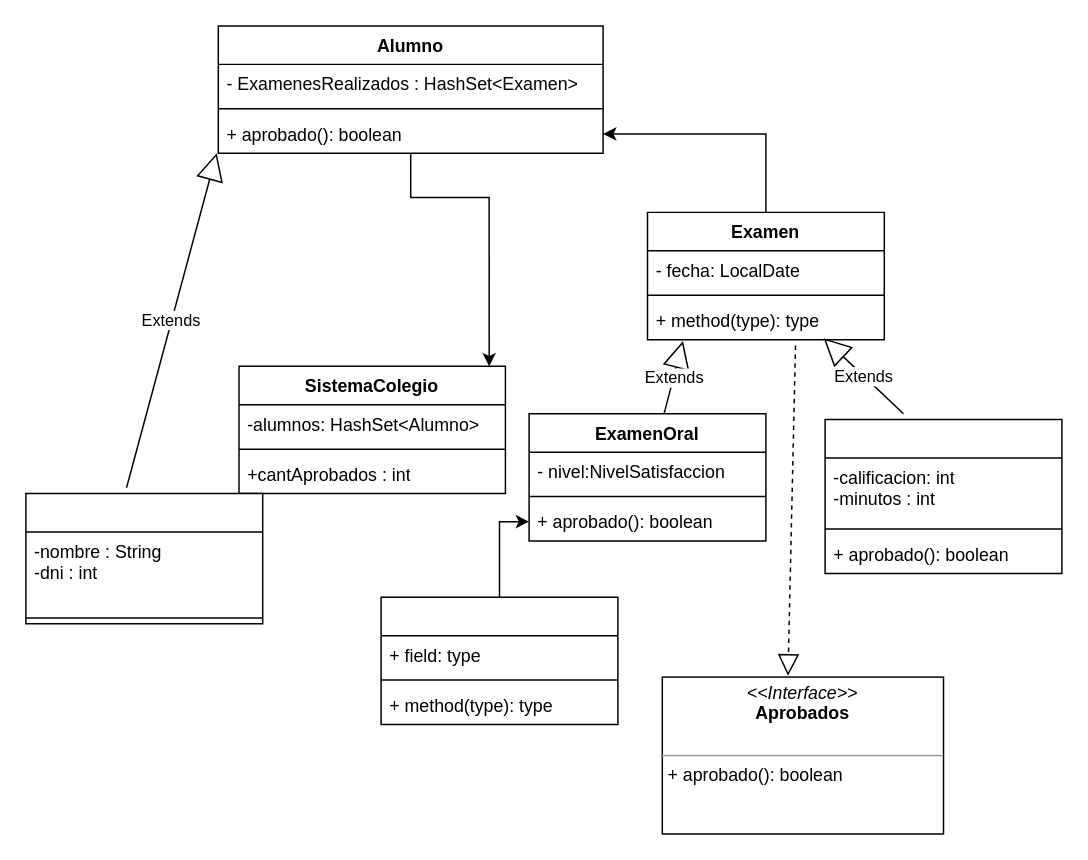
Some shapes in this 1088 by 860 pixel diagram are drawn without their labels. The box of each missing label's shape, as (x1, y1, x2, y2) in pixels:
ExamenEscrito: (824, 418, 1062, 574)
NivelSatisfaccion: (380, 596, 618, 724)
Persona: (24, 492, 263, 624)
